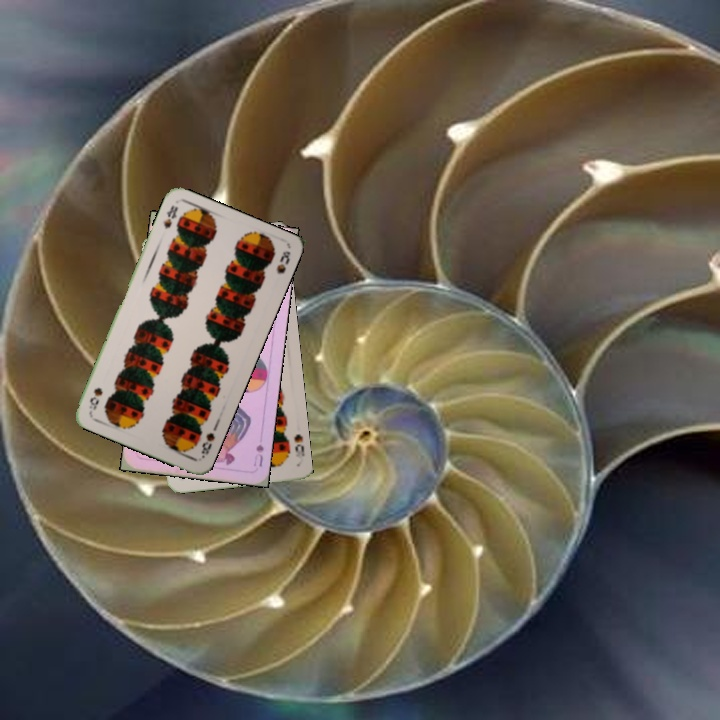S8: (197, 428, 217, 461), (159, 201, 180, 231), (290, 430, 307, 465)
SU: (249, 440, 266, 469)
